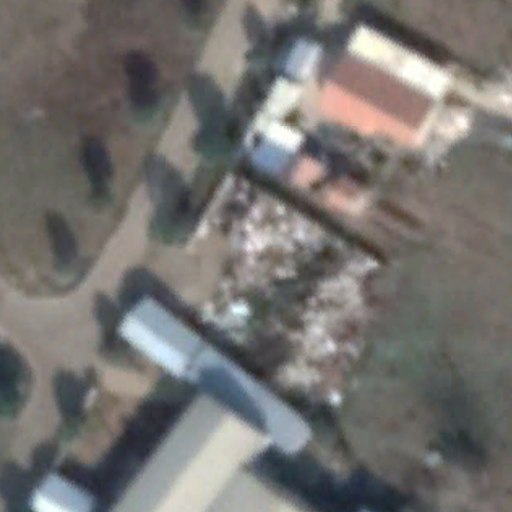msw: (191, 171, 373, 410)
